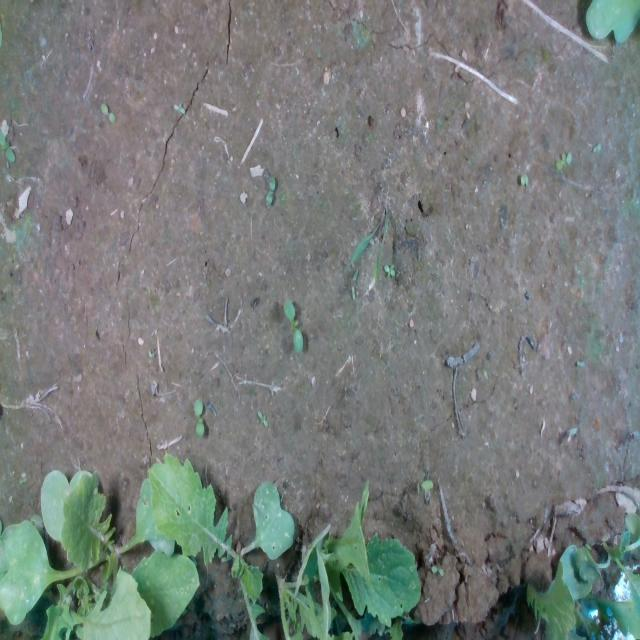weed: (282, 298, 304, 354), (192, 396, 204, 438), (264, 174, 276, 207), (554, 149, 572, 171), (100, 102, 116, 125), (351, 266, 359, 300), (383, 261, 397, 279), (256, 408, 268, 428), (172, 100, 185, 114), (519, 172, 529, 186), (592, 142, 602, 156)
